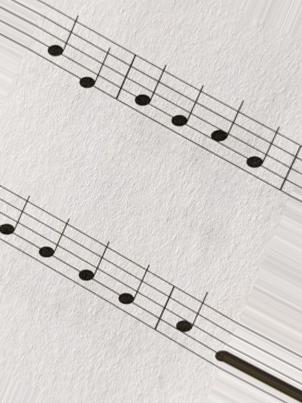A: (175, 286, 214, 363), (207, 94, 247, 169)
E: (77, 23, 112, 94)
G: (243, 114, 283, 193), (77, 228, 113, 309), (130, 53, 168, 129), (167, 74, 205, 149), (116, 252, 152, 331), (42, 3, 78, 80), (34, 207, 72, 279), (1, 185, 31, 258)
